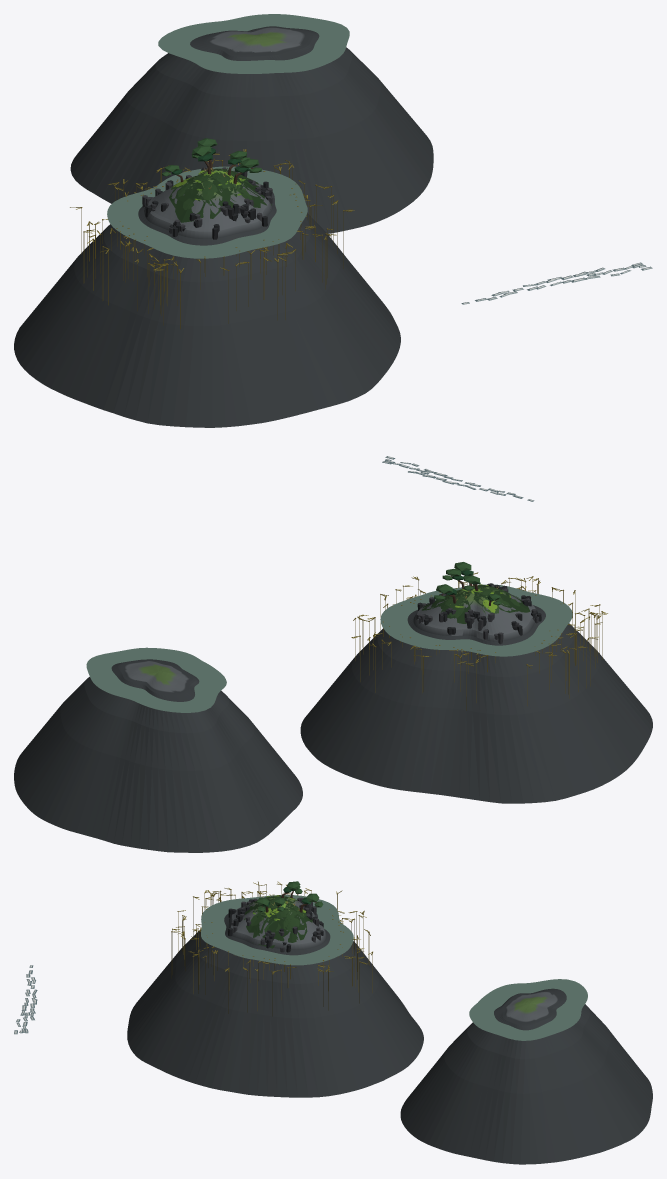
Rendered from chunk_-1_2.glb.
The picture shows the model from 3 angles, top to bottom: view 1: azimuth 30°, elevation 25°; view 2: azimuth 150°, elevation 25°; view 3: azimuth 270°, elevation 25°; orthographic projection. The views are drawn at different scales.
Visible parts, largest first — view 1: chunk_-1_2; view 2: chunk_-1_2; view 3: chunk_-1_2.
Boxes of the visible parts, x1,y1,x2,y2 form: chunk_-1_2: (14, 14, 652, 427); chunk_-1_2: (14, 456, 652, 852); chunk_-1_2: (14, 881, 652, 1164).
Size of the model in its own units: 115 by 39.28 by 152.
